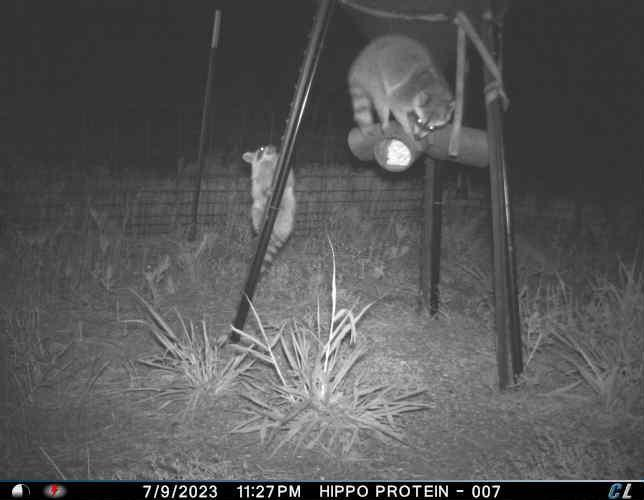Raccoon: (349, 28, 459, 140), (241, 141, 299, 278)
